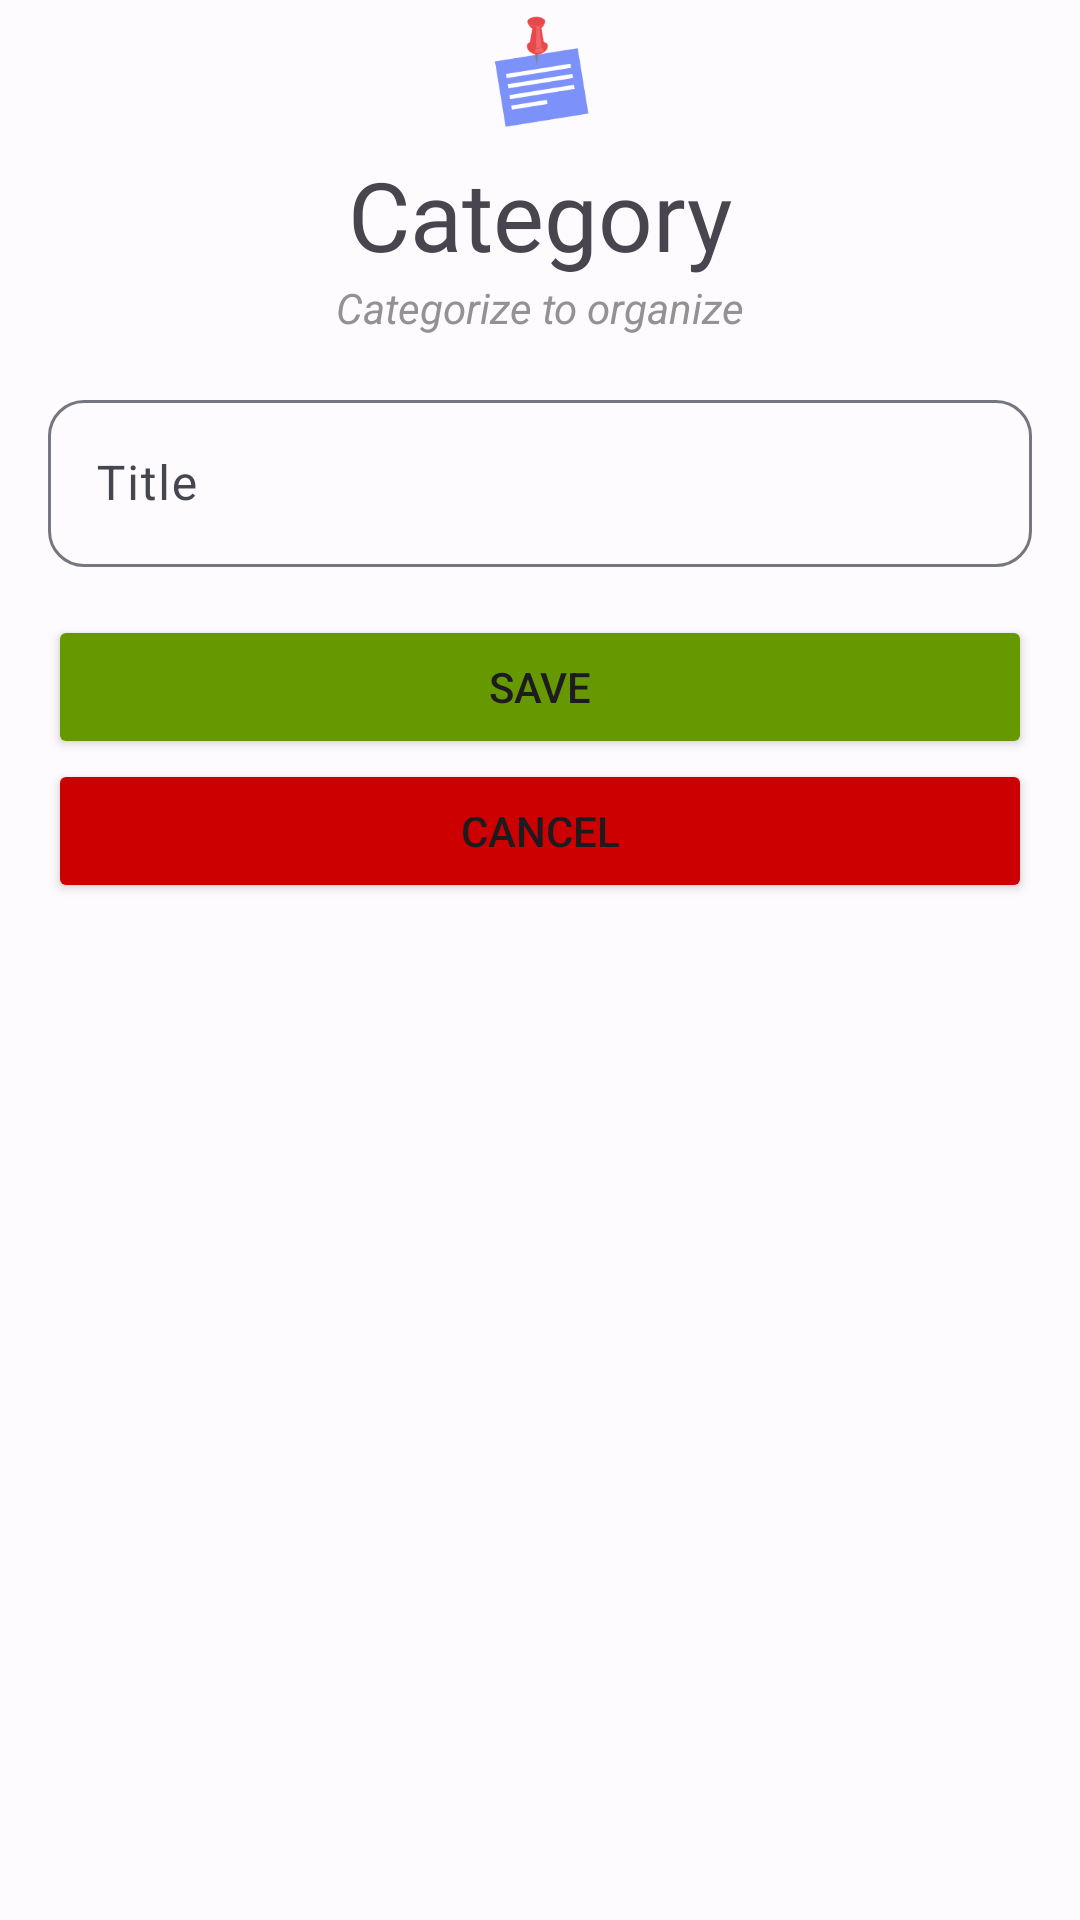

Where to tap for icons on this 1080px×1920px app screen, as (x,y):
note: (542,71)
